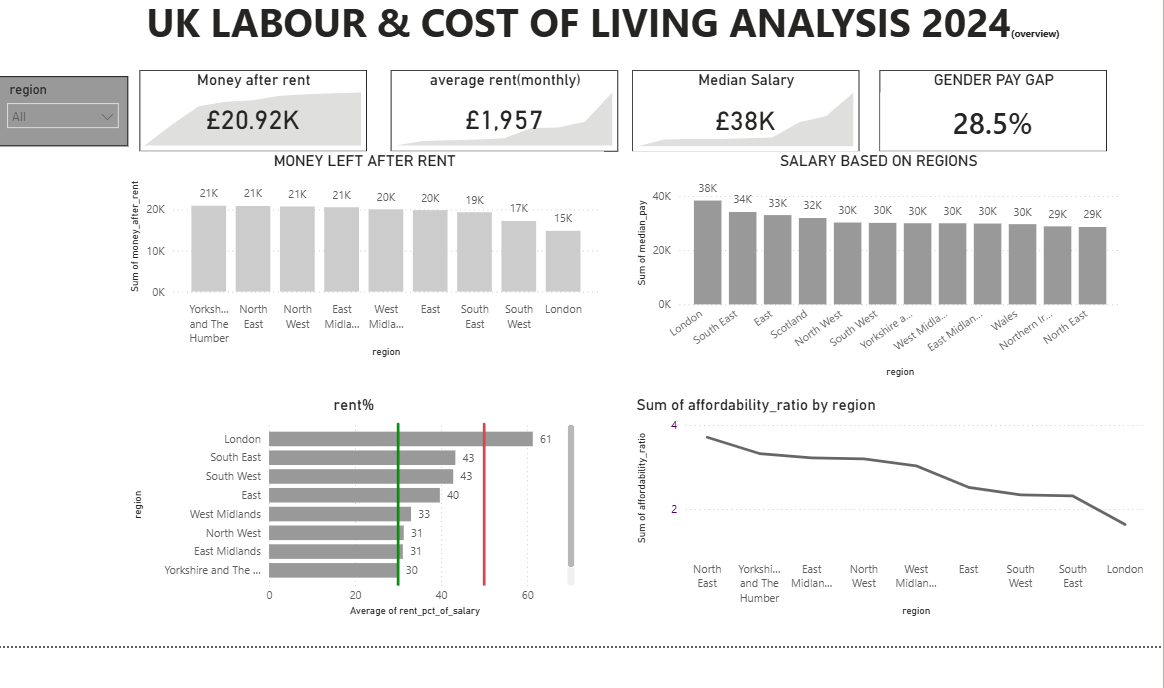

This screenshot's page, from the dashboard's own definition file:
{"tool":"powerbi","page":{"name":"Page 1","canvas":[1280,720],"ordinal":0},"visuals":[{"type":"textbox","box":[51.4,0,1228.9,106.4],"z":0},{"type":"kpi","title":"Median Salary","fields":{"Indicator":["Avg(Market_CLEAN.median_pay)"],"TrendLine":["Market_CLEAN.median_pay"]},"box":[697,88,249.5,90.5],"z":1000},{"type":"kpi","title":"average rent(monthly)","fields":{"Indicator":["Avg(Market_CLEAN.latest_monthly_rent)"],"TrendLine":["Market_CLEAN.latest_monthly_rent"]},"box":[431.7,88,249.5,89.3],"z":2000},{"type":"kpi","title":"Money after rent","fields":{"Indicator":["Avg(Market_CLEAN.money_after_rent)"],"TrendLine":["Market_CLEAN.money_after_rent"]},"box":[156.5,88,249.5,89.3],"z":3000},{"type":"cardVisual","title":"GENDER PAY GAP","fields":{"Data":["Market_CLEAN.GENDER PAY GAP"]},"box":[968.5,88,249.5,89.3],"z":4000},{"type":"clusteredColumnChart","title":"SALARY BASED ON REGIONS","fields":{"Category":["salary_12regions.region"],"Y":["Sum(salary_12regions.median_pay)"]},"box":[697,177.3,541.7,253.1],"z":5000},{"type":"clusteredColumnChart","title":"MONEY LEFT AFTER RENT","fields":{"Category":["Market_CLEAN.region"],"Y":["Sum(Market_CLEAN.money_after_rent)"]},"box":[141.8,177.3,524.6,231.1],"z":6000},{"type":"slicer","fields":{"Values":["Market_CLEAN.region"]},"box":[0,94.2,144.3,77],"z":7000},{"type":"clusteredBarChart","title":"rent%","fields":{"Category":["Market_CLEAN.region"],"Y":["Avg(Market_CLEAN.rent_pct_of_salary)"]},"box":[144.3,445.1,495.2,248.2],"z":8000},{"type":"lineChart","fields":{"Category":["Market_CLEAN.region"],"Y":["Sum(Market_CLEAN.affordability_ratio)"]},"box":[697,445.1,573.5,248.2],"z":9000}]}

Visuals, with their boxes on the page's 1280x720 design canvas (x1, y1, x2, y2). These are canvas units, not pixel positions in the 1164x688 screenshot, which may show the page scaled, cropped or inside an application window:
textbox: [51,0,1280,106]
"Median Salary" kpi: [697,88,946,178]
"average rent(monthly)" kpi: [432,88,681,177]
"Money after rent" kpi: [156,88,406,177]
"GENDER PAY GAP" cardVisual: [968,88,1218,177]
"SALARY BASED ON REGIONS" clusteredColumnChart: [697,177,1239,430]
"MONEY LEFT AFTER RENT" clusteredColumnChart: [142,177,666,408]
slicer - Market_CLEAN.region: [0,94,144,171]
"rent%" clusteredBarChart: [144,445,640,693]
lineChart - Market_CLEAN.region x Sum(Market_CLEAN.affordability_ratio): [697,445,1270,693]
